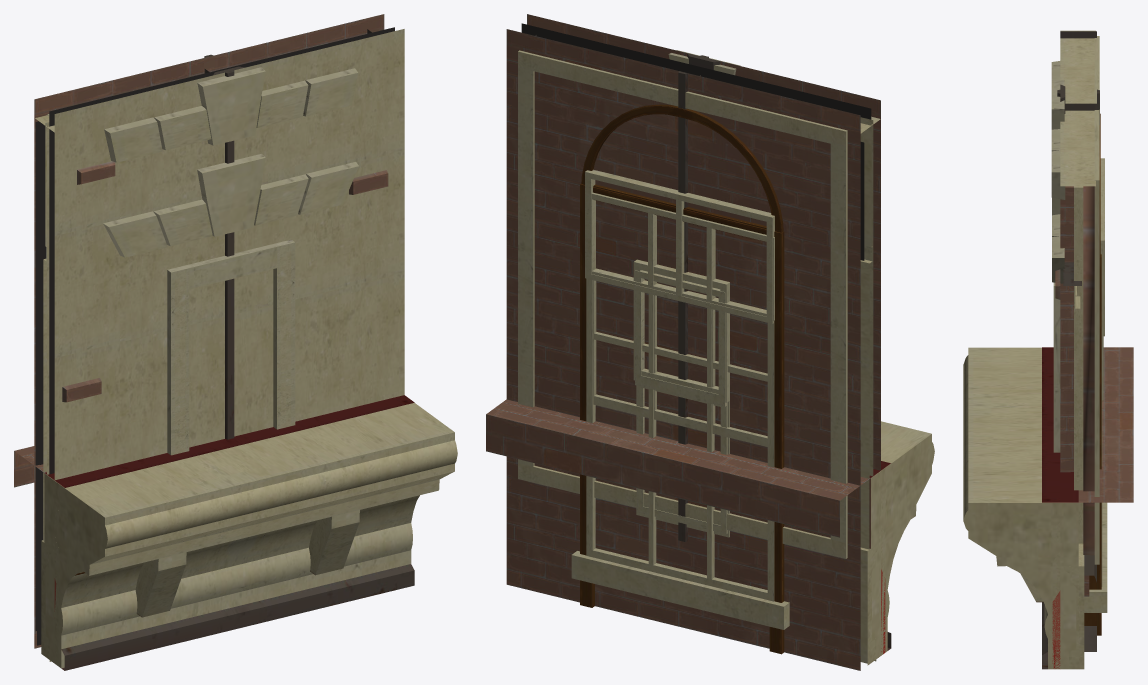
Rendered from citykit.glb.
The picture shows the model from 3 angles, left to right: view 1: azimuth 30°, elevation 25°; view 2: azimuth 150°, elevation 25°; view 3: azimuth 270°, elevation 25°; orthographic projection. The views are drawn at different scales.
Parts seen in each view (by area): view 1: Trim_FirstFloor_Wall, Cornice_Trim_Center, Brick_Window_Square_Single, Brick_Window_Trim_Single, Cornice_Metal_Center, Brick_Window_Trim, Metal_FirstFloor_Window, Trim_FirstFloor_Window_001, DoorFrame_Trim, Trim_Window, Cornice_Brick_Center; view 2: Trim_Window, Brick_Window_Trim, Trim_FirstFloor_Window_001, Cornice_Brick_Center, Brick_Window_Trim_Single, DoorFrame_Trim, Cornice_Trim_Center, Metal_FirstFloor_Window, Brick_Window_Square_Single, Trim_FirstFloor_Wall; view 3: Cornice_Trim_Center, Trim_FirstFloor_Window_001, Cornice_Brick_Center, Brick_Window_Trim, Brick_Window_Trim_Single, DoorFrame_Trim, Cornice_Metal_Center, Brick_Window_Square_Single, Trim_FirstFloor_Wall, Metal_FirstFloor_Window, Metal_FirstFloor_Wall, DoorFrame_Metal_Single.
Boxes of the visible parts, x1,y1,x2,y2 form: Trim_FirstFloor_Wall: (54, 29, 404, 666); Cornice_Trim_Center: (44, 403, 457, 668); Brick_Window_Square_Single: (34, 14, 384, 648); Brick_Window_Trim_Single: (39, 122, 388, 630); Cornice_Metal_Center: (44, 395, 414, 670); Brick_Window_Trim: (104, 67, 358, 162); Metal_FirstFloor_Window: (49, 27, 394, 474); Trim_FirstFloor_Window_001: (35, 114, 54, 661); DoorFrame_Trim: (41, 122, 52, 659); Trim_Window: (37, 136, 41, 645); Cornice_Brick_Center: (14, 446, 46, 487); Trim_Window: (506, 29, 860, 670); Brick_Window_Trim: (527, 14, 880, 629); Trim_FirstFloor_Window_001: (518, 50, 880, 661); Cornice_Brick_Center: (486, 399, 870, 537); Brick_Window_Trim_Single: (596, 200, 767, 537); DoorFrame_Trim: (580, 104, 878, 665); Cornice_Trim_Center: (870, 421, 934, 658); Metal_FirstFloor_Window: (521, 23, 871, 541); Brick_Window_Square_Single: (635, 142, 864, 533); Trim_FirstFloor_Wall: (644, 279, 885, 655); Cornice_Trim_Center: (963, 347, 1078, 669); Trim_FirstFloor_Window_001: (1060, 30, 1099, 564); Cornice_Brick_Center: (1078, 347, 1133, 502); Brick_Window_Trim: (1051, 61, 1107, 612); Brick_Window_Trim_Single: (1052, 198, 1102, 472); DoorFrame_Trim: (1064, 113, 1101, 669); Cornice_Metal_Center: (1042, 347, 1078, 669); Brick_Window_Square_Single: (1053, 282, 1103, 452); Trim_FirstFloor_Wall: (1051, 523, 1060, 669); Metal_FirstFloor_Window: (1057, 31, 1099, 581); Metal_FirstFloor_Wall: (1052, 84, 1065, 668); DoorFrame_Metal_Single: (1063, 262, 1096, 651).
Size of the model in its own units: 2 by 3.01 by 0.9278.
5 materials, 3 textured.
